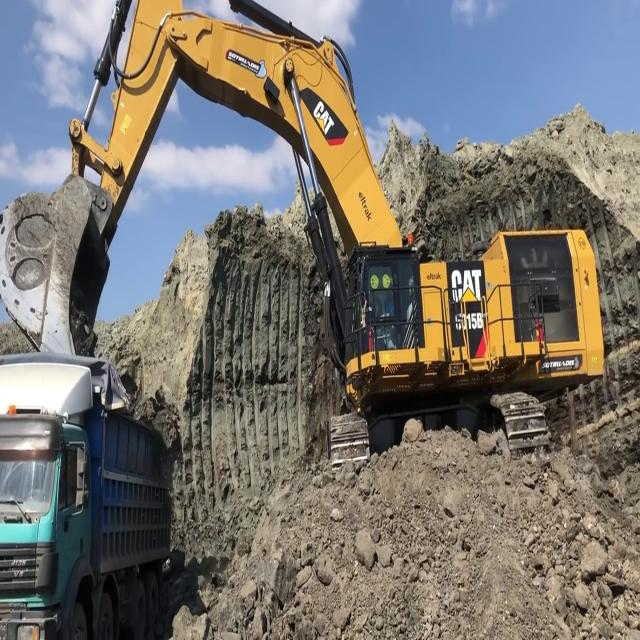excavator: (1, 5, 616, 471)
